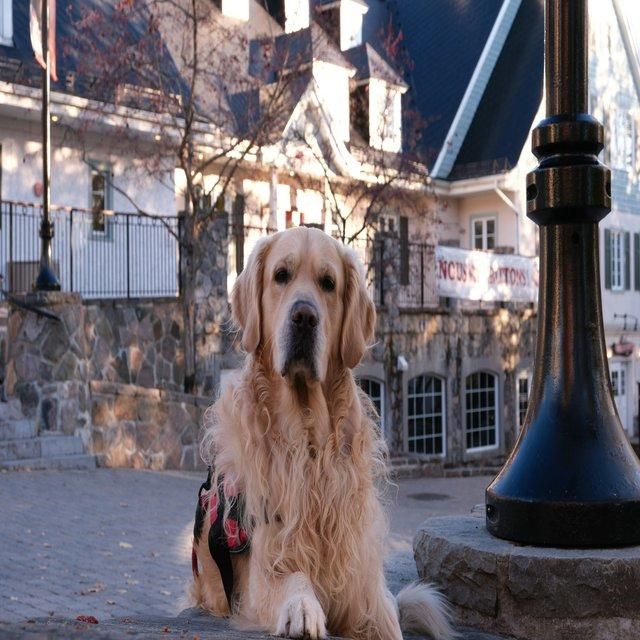retriever: (180, 224, 458, 639)
